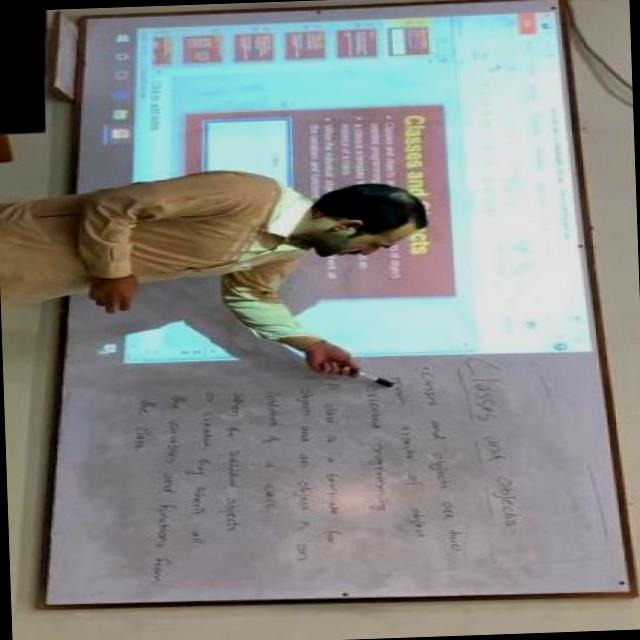Instructor: (0, 163, 439, 304)
Slide: (85, 8, 594, 366)
White-board: (42, 0, 634, 605)
